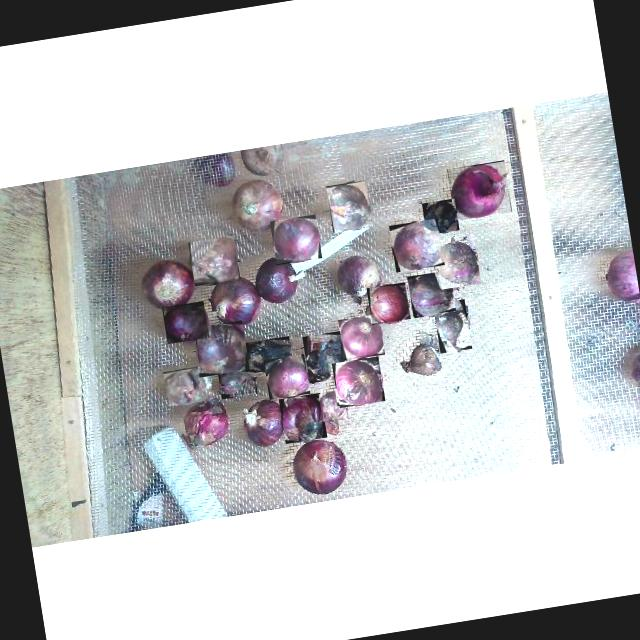healthy: (451, 164, 506, 217), (273, 219, 319, 261), (267, 356, 309, 397), (164, 304, 207, 342), (342, 318, 383, 356), (370, 285, 408, 322)
rotten: (197, 324, 246, 374), (392, 221, 442, 269), (335, 360, 382, 405), (437, 237, 479, 286), (329, 183, 370, 231), (192, 238, 237, 281), (283, 397, 324, 440), (306, 335, 346, 379), (412, 273, 452, 315), (165, 367, 210, 403), (434, 306, 465, 350), (248, 340, 292, 370), (425, 201, 457, 233), (220, 372, 256, 395), (320, 392, 346, 420)
